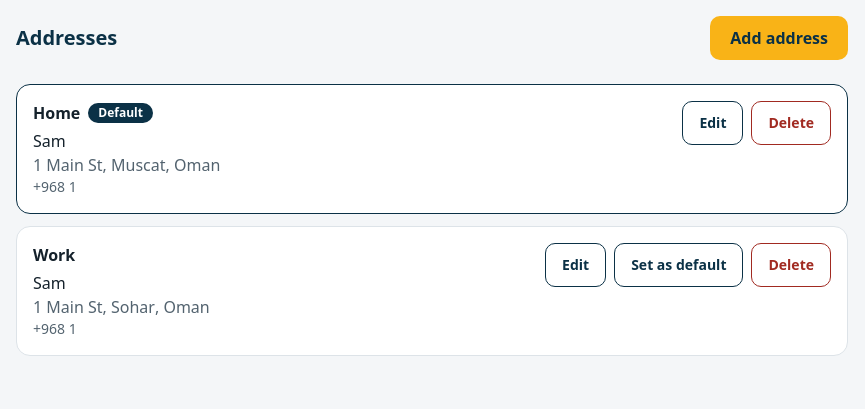
Test case: address book › CRITICAL: making an address the default changes only the default, and says so
The width and height of the screenshot is (865, 409).
Click the button "Set as default": (679, 265) x1=614 y1=243 x2=744 y2=287
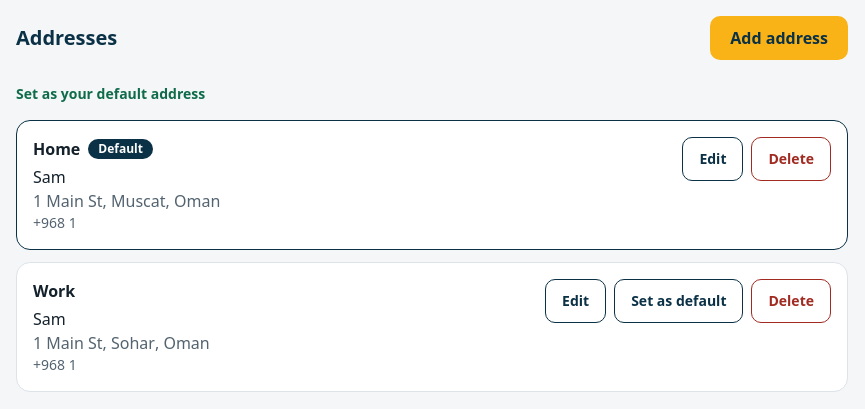
Result: the text "Set as your default address" is shown at x1=16 y1=84 x2=205 y2=103
